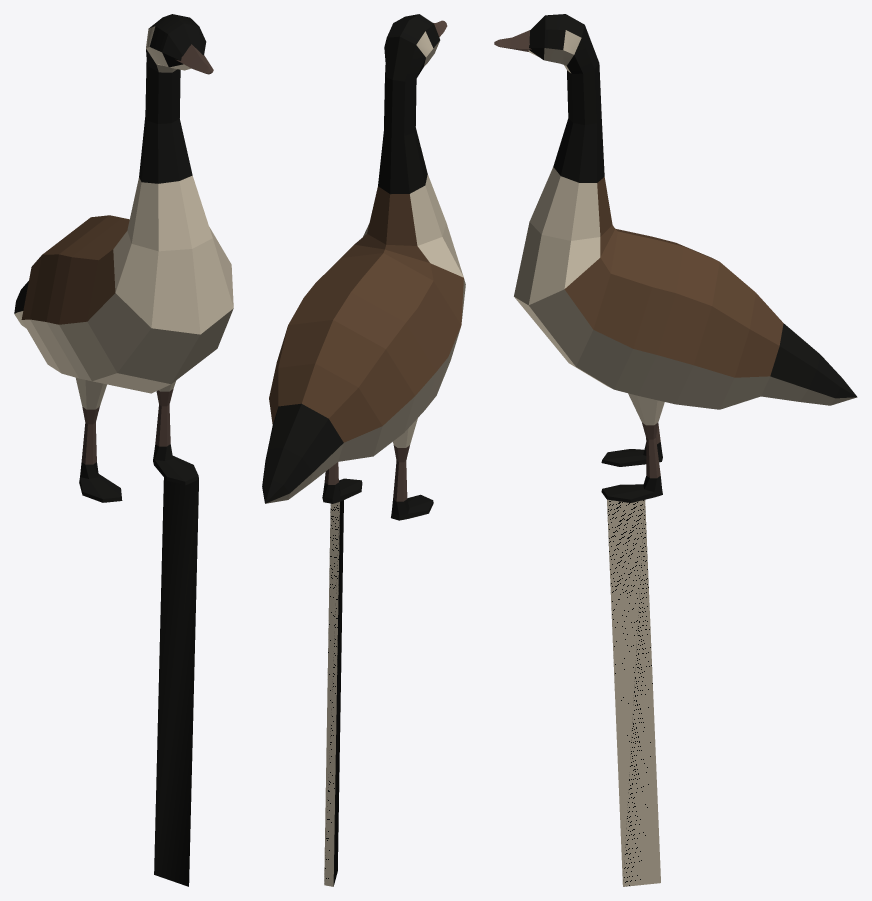
Rendered from finalGoosey.glb.
3 views of the same model, side by side, from view 1: azimuth 30°, elevation 25°; view 2: azimuth 150°, elevation 25°; view 3: azimuth 270°, elevation 25° (orthographic). The views are drawn at different scales.
Visible parts, largest first — view 1: Geo_Goose; view 2: Geo_Goose; view 3: Geo_Goose.
Part boxes in pixels (x1,y1,x2,y2): Geo_Goose: (14, 14, 233, 886); Geo_Goose: (262, 14, 465, 886); Geo_Goose: (494, 14, 857, 886).
Bounding box in the file's own units: 3.15 × 17.52 × 6.79.
1 material, 1 textured.
